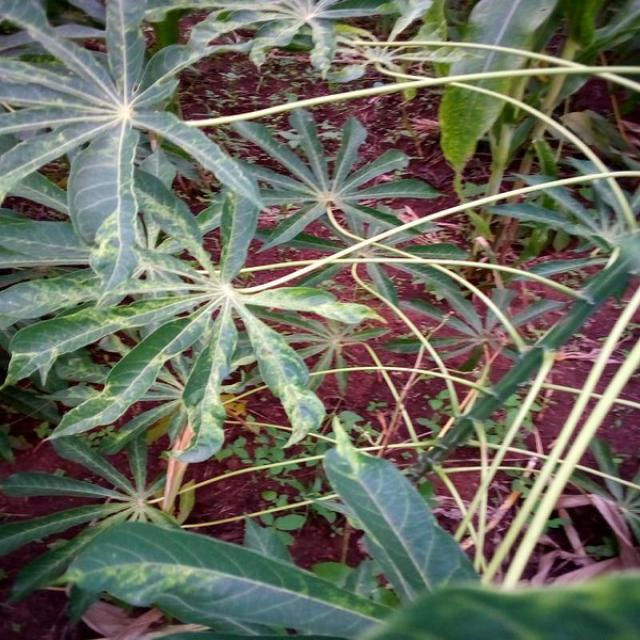cassava leaf: (1, 0, 638, 638), (63, 517, 395, 638), (320, 415, 482, 606)
